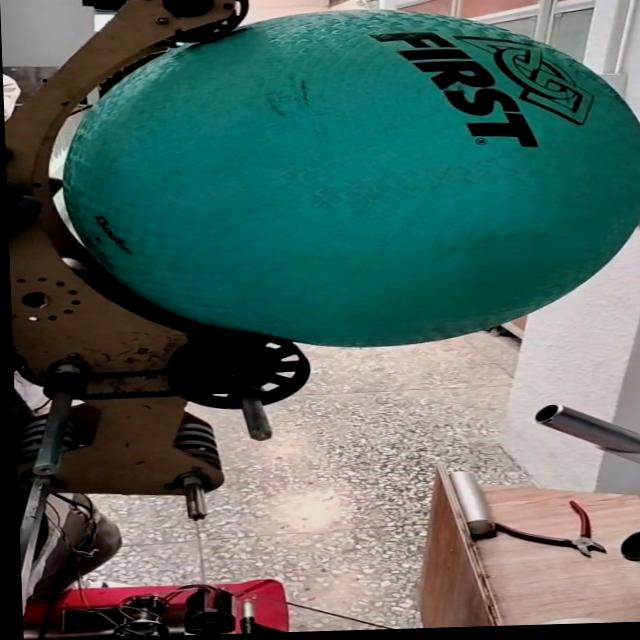ALGAE: (58, 0, 640, 355)
